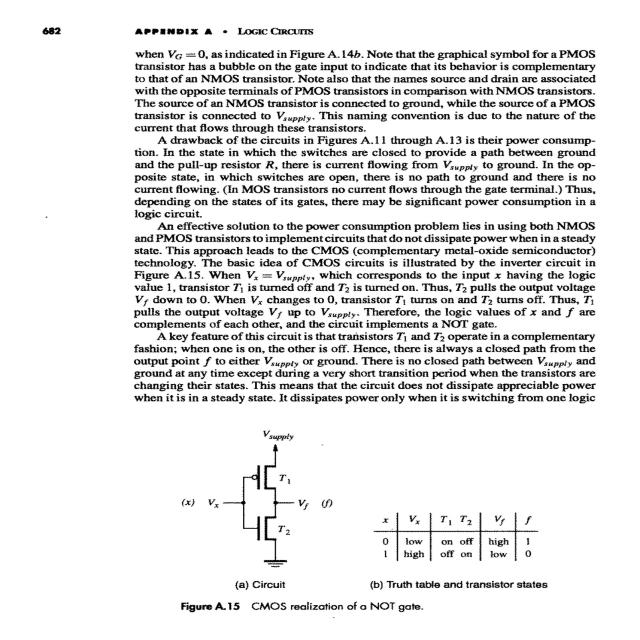diagram: (111, 426, 615, 635)
